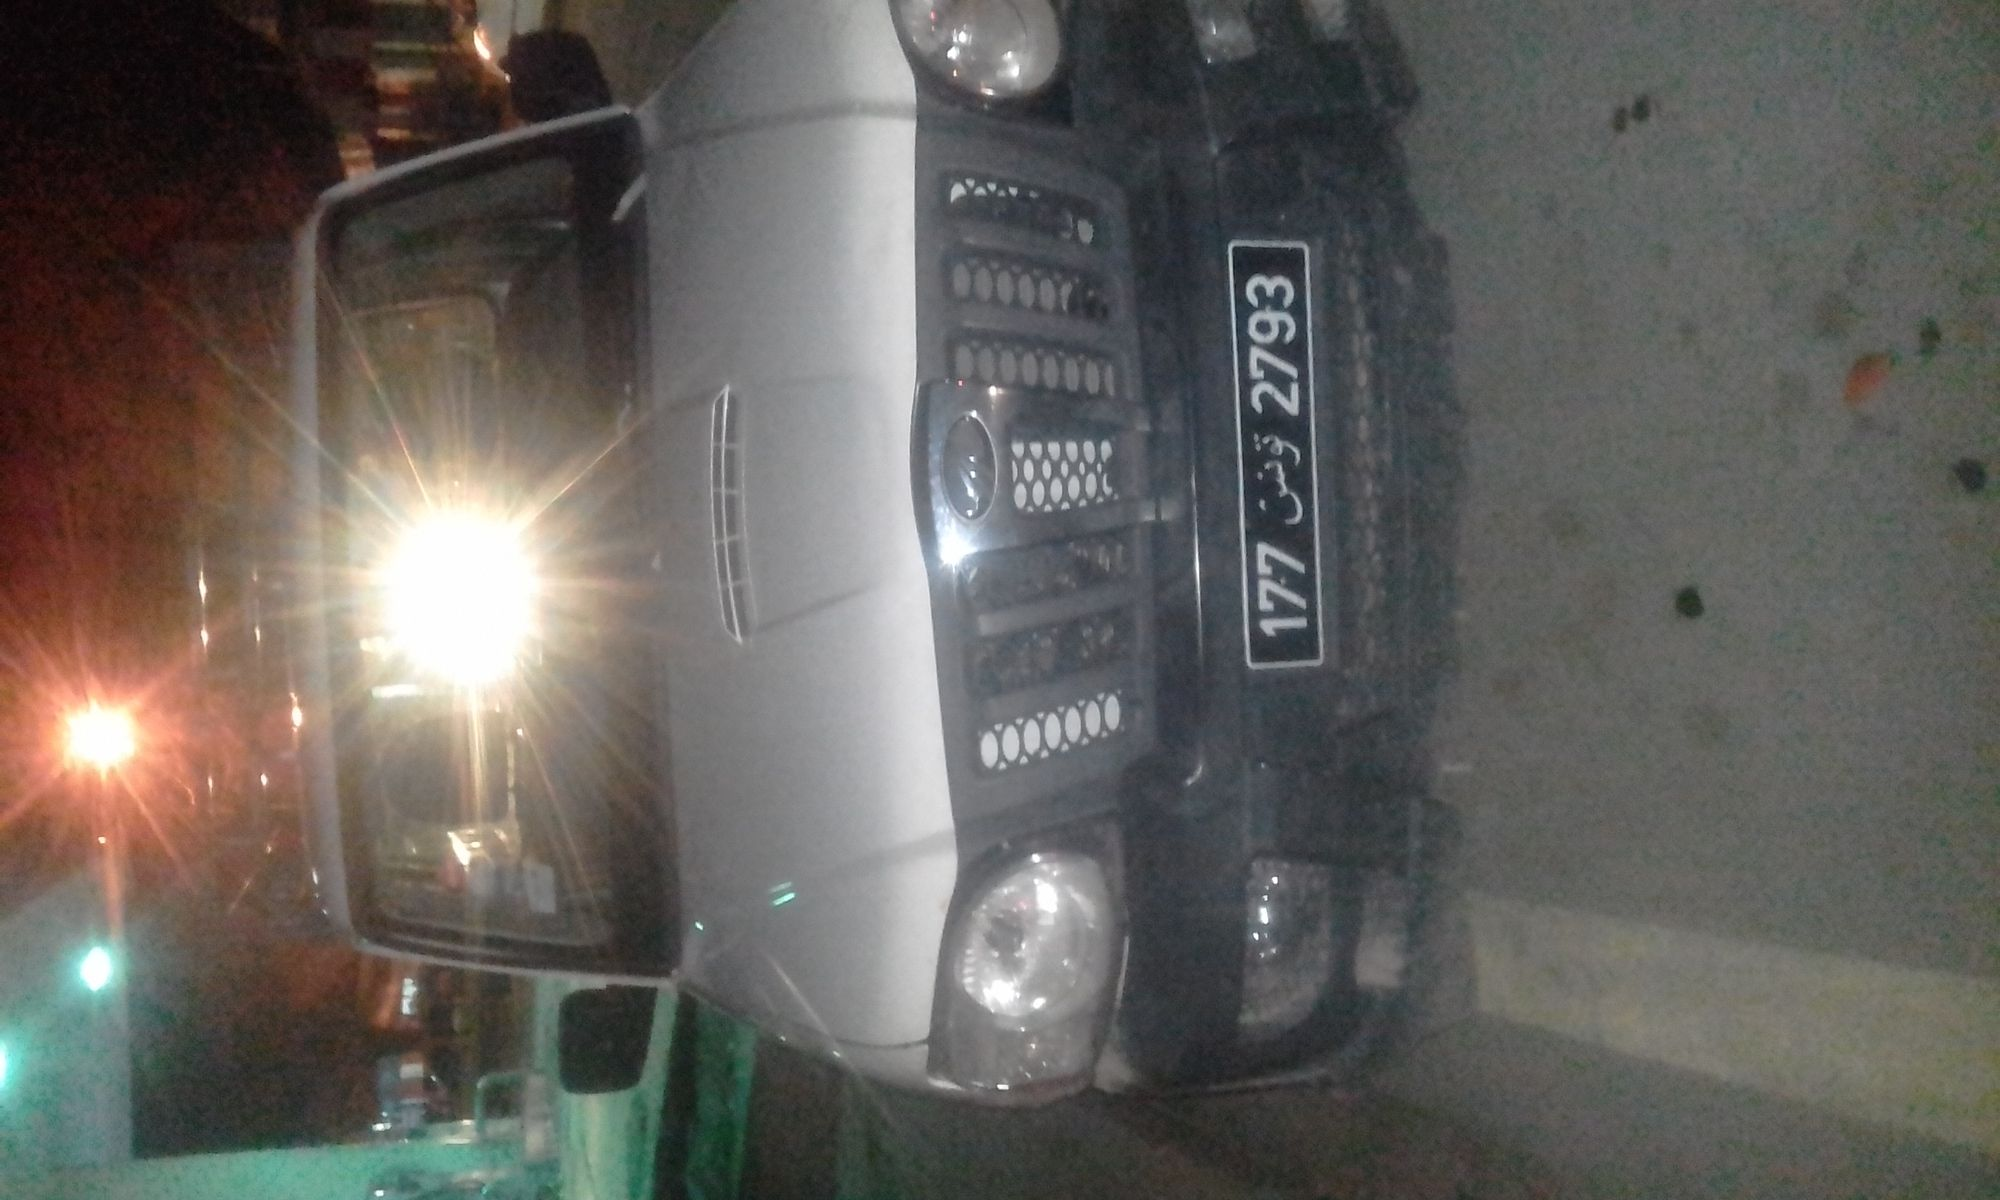LP: (1214, 225, 1330, 680)
